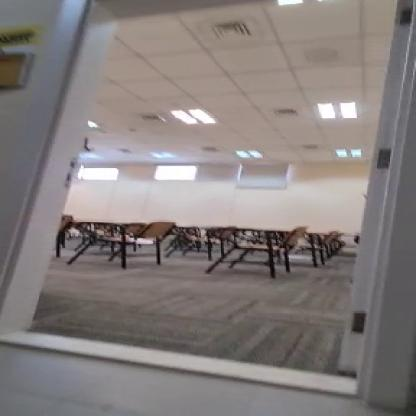open: (0, 0, 406, 411)
